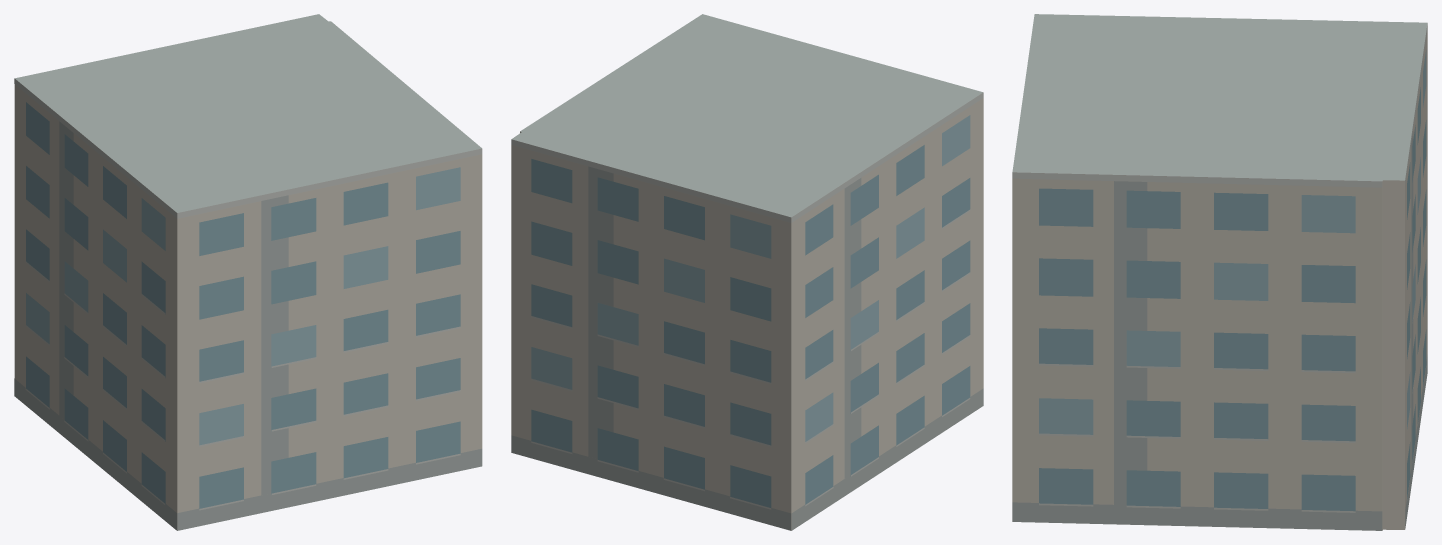
The model's file is survey-upis-32894121.glb.
3 views of the same model, side by side, from view 1: azimuth 30°, elevation 25°; view 2: azimuth 150°, elevation 25°; view 3: azimuth 270°, elevation 25° (orthographic). The views are drawn at different scales.
Parts seen in each view (by area): view 1: survey-upis-32894121.tmp; view 2: survey-upis-32894121.tmp; view 3: survey-upis-32894121.tmp.
Boxes of the visible parts, bbox=[...] form: survey-upis-32894121.tmp: bbox=[14, 14, 482, 530]; survey-upis-32894121.tmp: bbox=[511, 14, 983, 530]; survey-upis-32894121.tmp: bbox=[1012, 14, 1427, 530].
Size of the model in its own units: 13.88 by 13.5 by 14.55.
